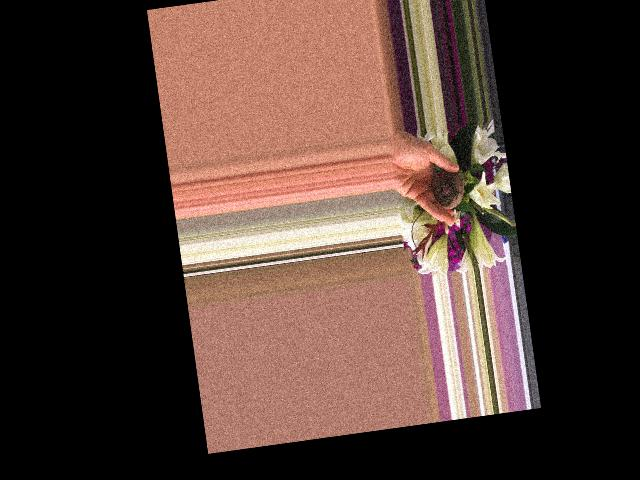beet: (429, 168, 466, 212)
